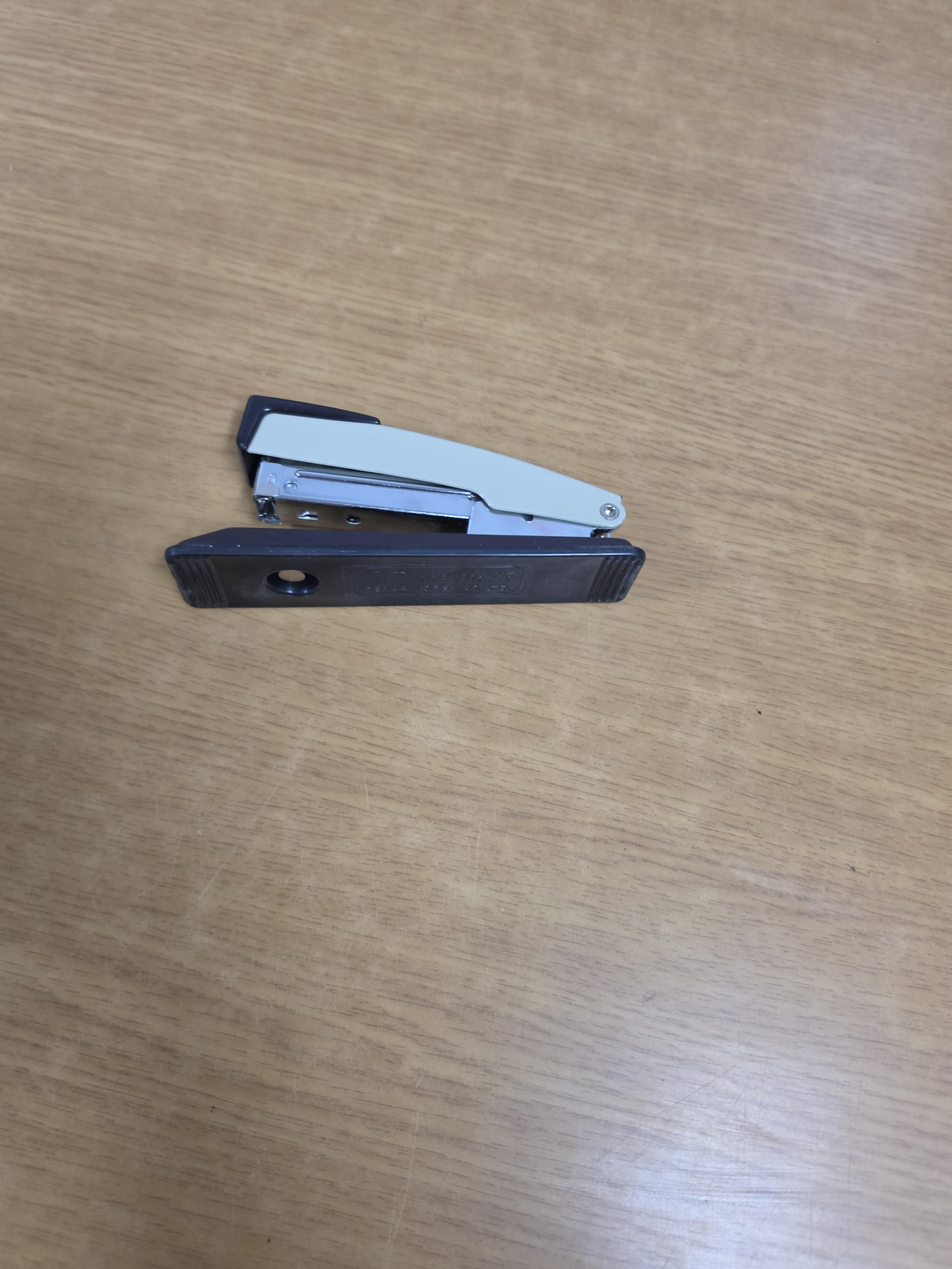stapler: (165, 394, 646, 610)
